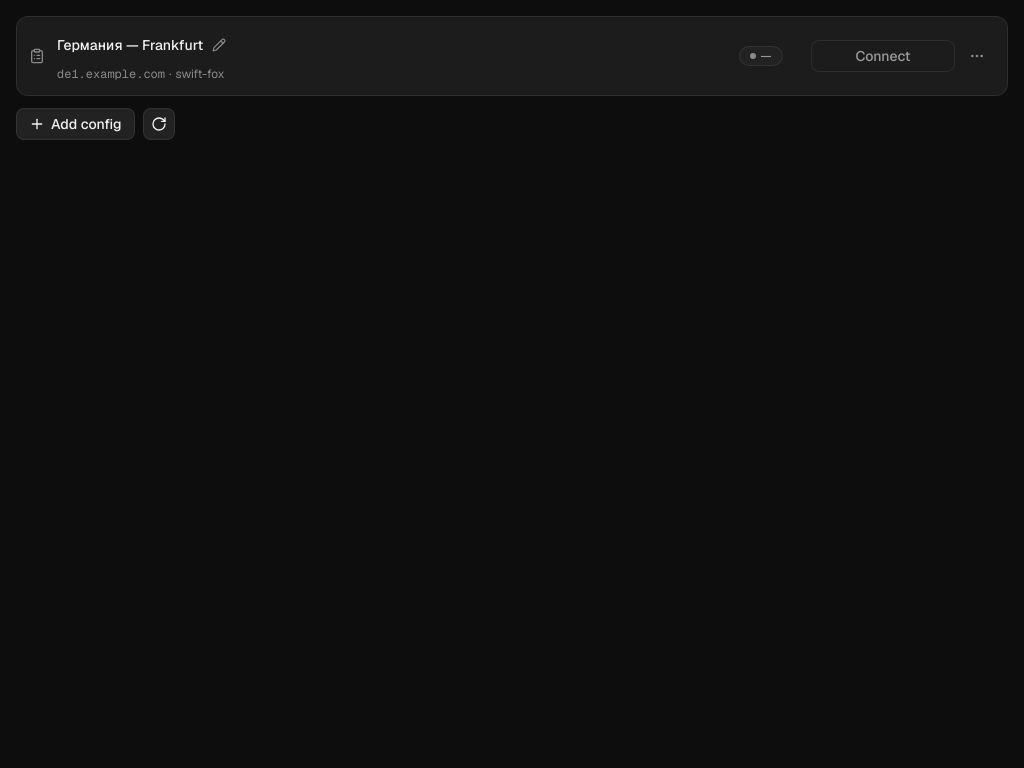
Test: ConnectionPanel scroll behavior (IN-45/IN-49) › G-30.1-01 — an open per-config modal learns its file was deleted › says nothing about a deletion while the file is on disk
This screenshot has width=1024, height=768.
expect the text "Германия — Frankfurt" is shown: met, box [57, 34, 203, 56]
Click the button named "Configuration actions" at (977, 56), box [959, 38, 995, 74]
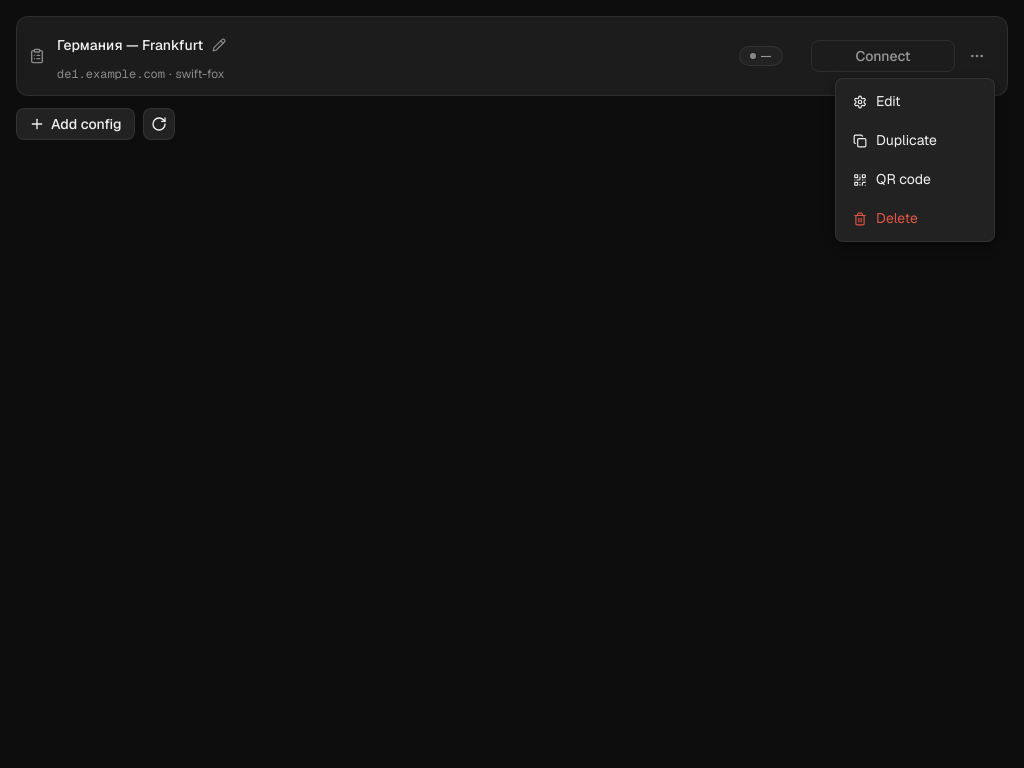
Click the menu item "Edit" at (915, 102), box [840, 83, 990, 120]
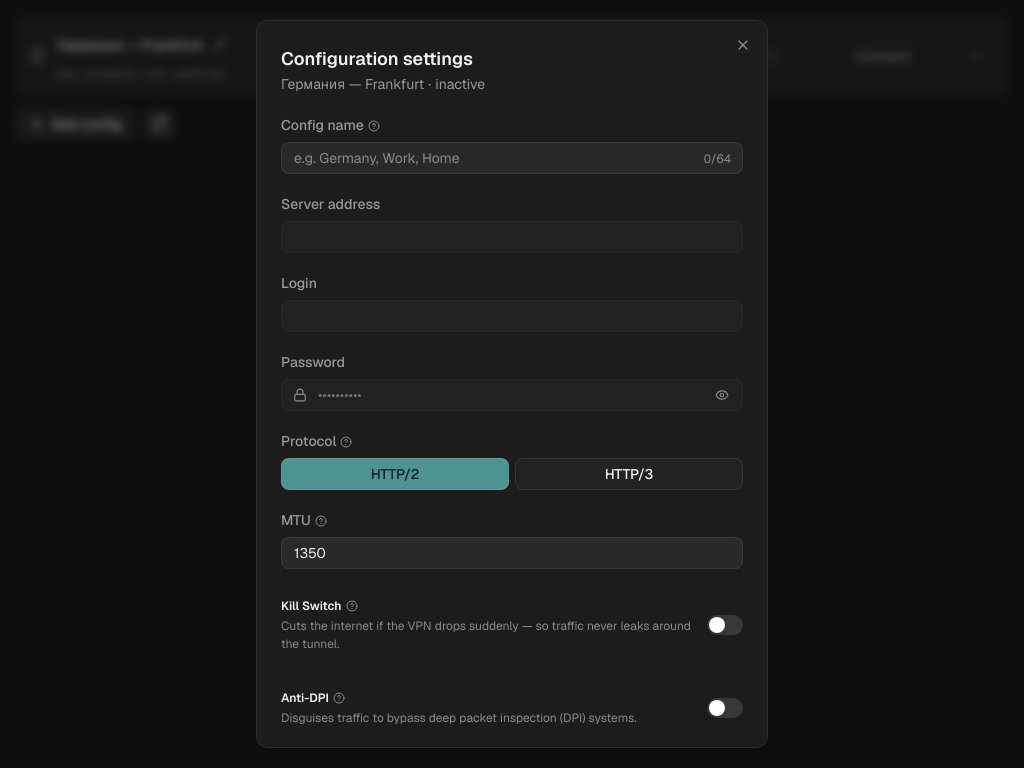
expect the password field named "Configuration password (read-only)" is shown: met, box [281, 379, 743, 411]
